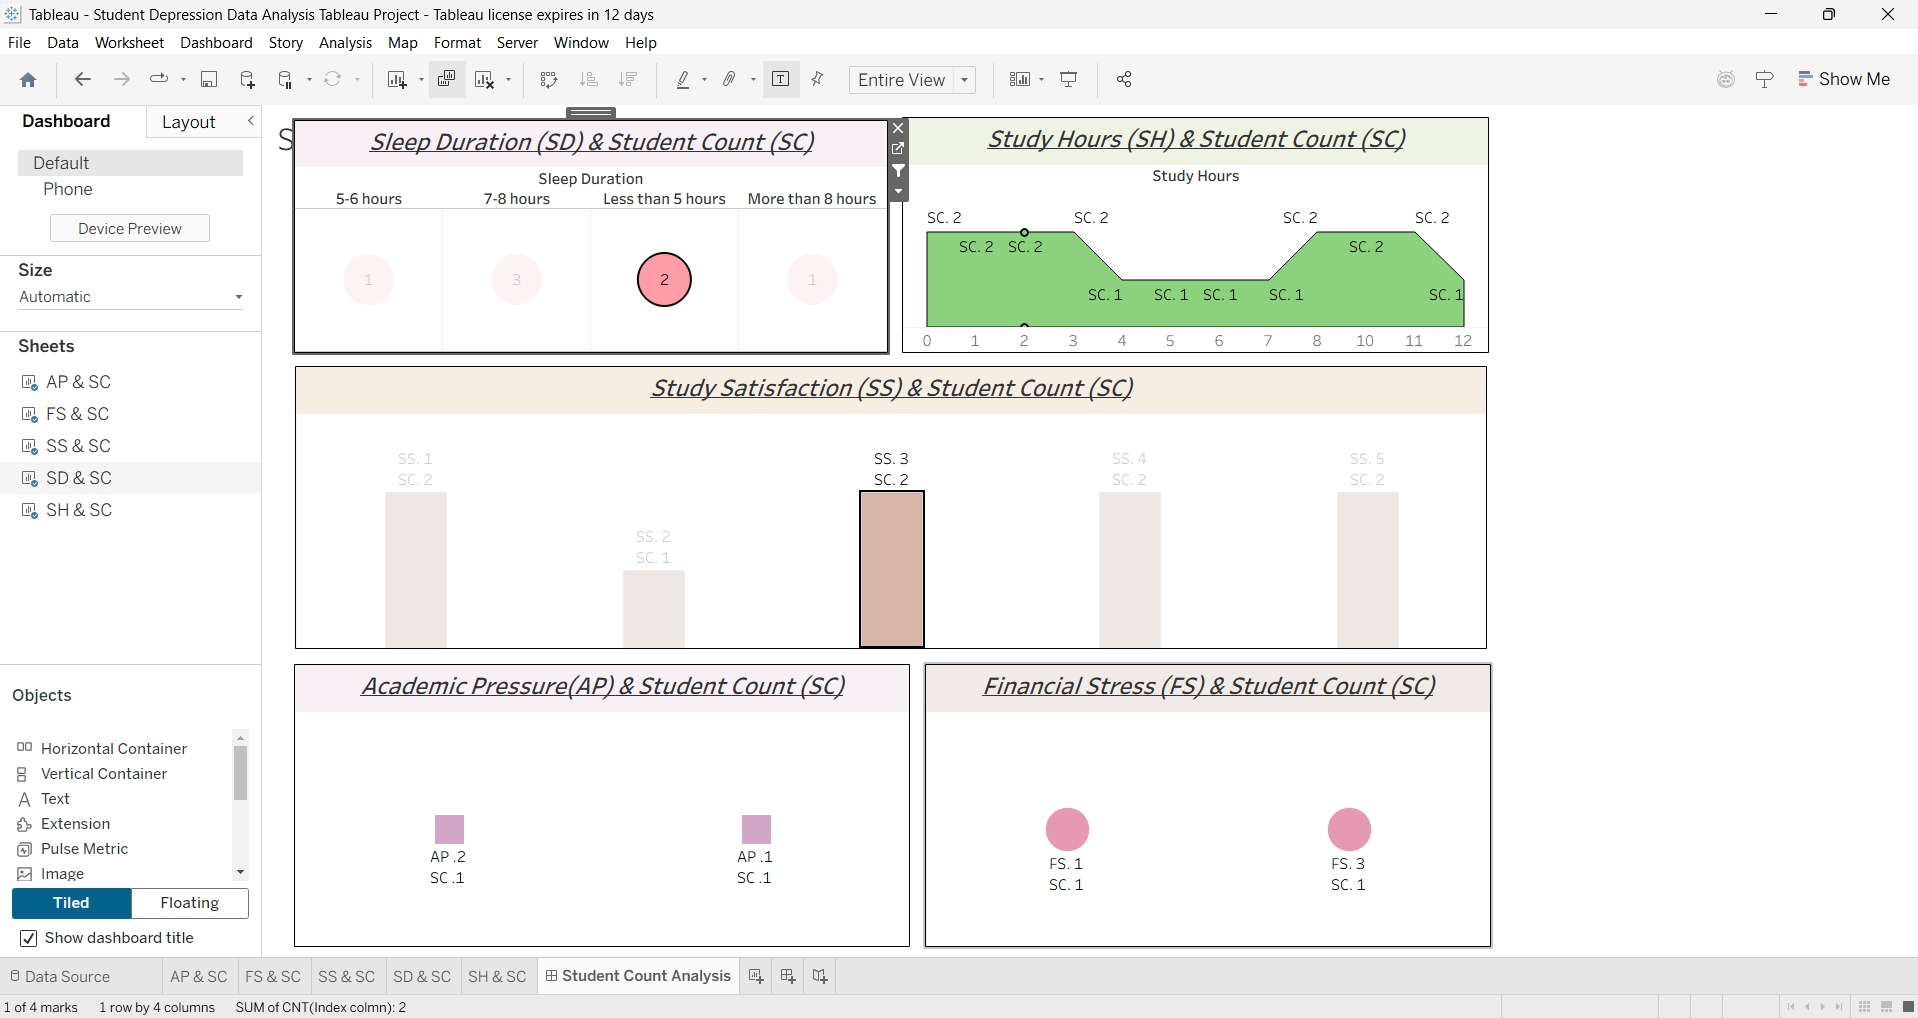

This screenshot's page, from the dashboard's own definition file:
{"tool":"tableau","page":{"name":"Student Count Analysis","canvas":[1000,1000],"units":"permille","ordinal":0},"visuals":[{"type":"worksheet","title":"SH & SC","mark":"Area","rows":["Index_colmn"],"cols":["Study_Hours"],"box":[386.2,14.1,354.2,277.3]},{"type":"worksheet","title":"SD & SC","mark":"Pie","cols":["Sleep_Duration"],"box":[19.3,17.6,358.5,273.8]},{"type":"worksheet","title":"SS & SC","mark":"Automatic","rows":["Index_colmn"],"cols":["Study_Satisfaction"],"box":[19.9,306.7,719.4,332.6]},{"type":"worksheet","title":"AP & SC","mark":"Square","rows":["Index_colmn"],"cols":["Academic_Pressure"],"box":[19.3,656.9,371.8,332.6]},{"type":"worksheet","title":"FS & SC","mark":"Circle","rows":["Index_colmn"],"cols":["Financial_Stress"],"box":[400.1,656.9,341.6,332.6]}]}

Visuals, with their boxes on the dashboard's canvas, which has no fixed pixel size, in thousandths of its width and height (x1, y1, x2, y2). These are canvas units, not pixel positions in the 1918x1018 screenshot, which may show the page scaled, cropped or inside an application window:
"SH & SC" worksheet (Area marks): [x1=386, y1=14, x2=740, y2=291]
"SD & SC" worksheet (Pie marks): [x1=19, y1=18, x2=378, y2=291]
"SS & SC" worksheet: [x1=20, y1=307, x2=739, y2=639]
"AP & SC" worksheet (Square marks): [x1=19, y1=657, x2=391, y2=990]
"FS & SC" worksheet (Circle marks): [x1=400, y1=657, x2=742, y2=990]
